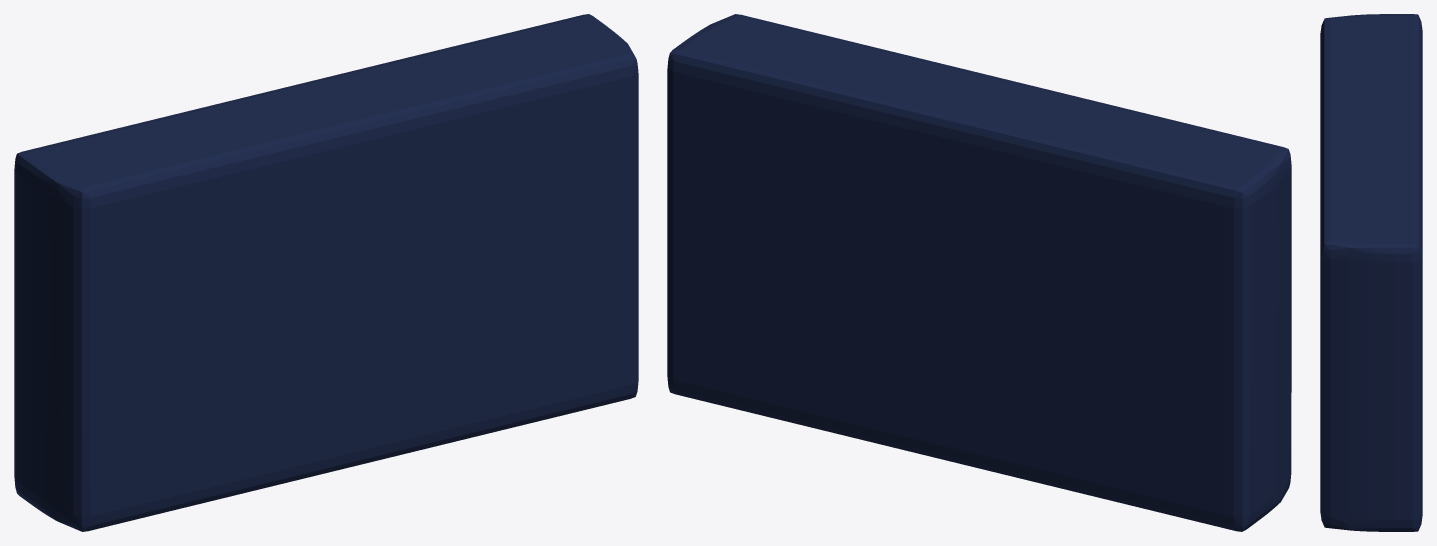
File: pelvis_part_21.obj
3 renders of one model, left to right at view 1: azimuth 30°, elevation 25°; view 2: azimuth 150°, elevation 25°; view 3: azimuth 270°, elevation 25°, orthographic. The views are drawn at different scales.
Bounding box in the file's own units: 0.1405 × 0.0792 × 0.0256.
